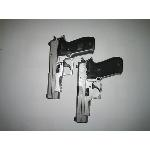Pistol: (45, 35, 95, 99), (74, 57, 122, 123)
